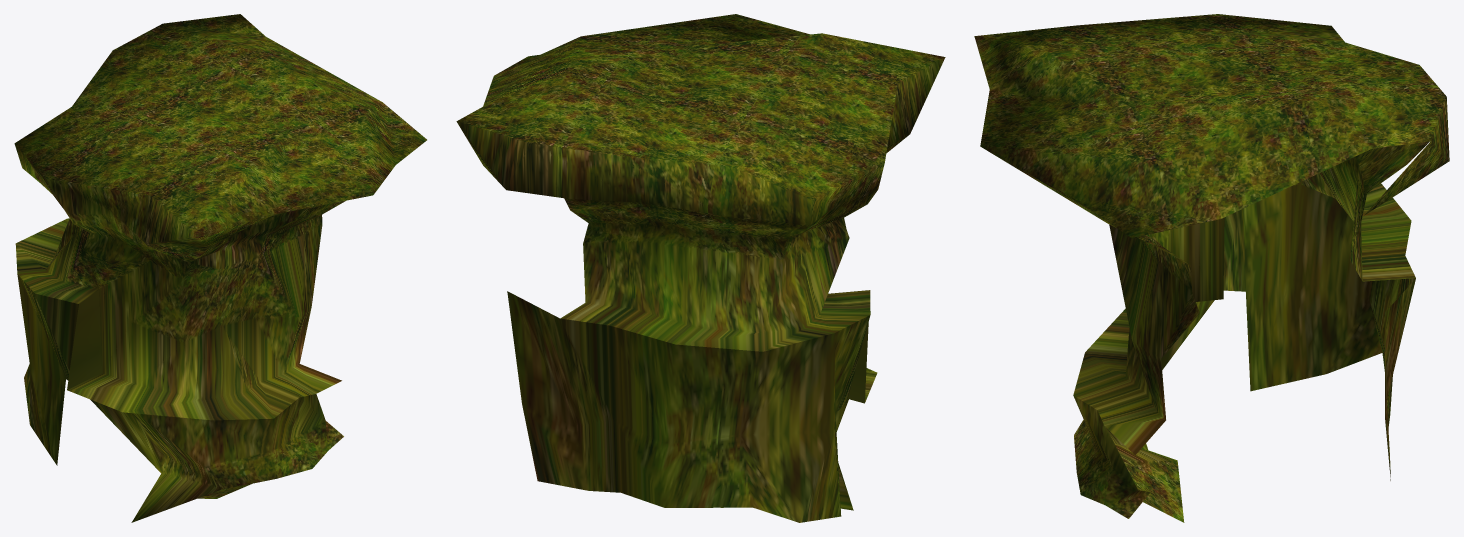
File: TROLLHOLE02_RM_PSURF90.fbx
The picture shows the model from 3 angles, left to right: view 1: azimuth 30°, elevation 25°; view 2: azimuth 150°, elevation 25°; view 3: azimuth 270°, elevation 25°; orthographic projection. The views are drawn at different scales.
Parts seen in each view (by area): view 1: TROLLHOLE02_RM_PSURF90; view 2: TROLLHOLE02_RM_PSURF90; view 3: TROLLHOLE02_RM_PSURF90.
Boxes of the visible parts, x1,y1,x2,y2 form: TROLLHOLE02_RM_PSURF90: [14, 14, 426, 522]; TROLLHOLE02_RM_PSURF90: [456, 14, 945, 522]; TROLLHOLE02_RM_PSURF90: [974, 14, 1449, 522].
Bounding box in the file's own units: 103370 × 112308 × 102675.
1 material, 1 textured.
